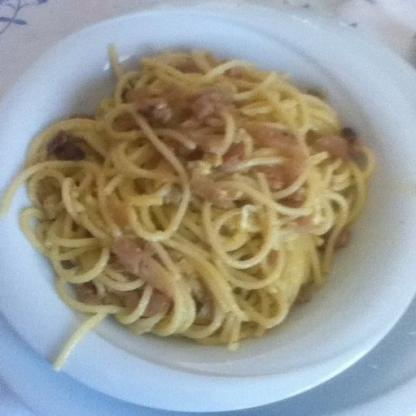Noodles: (0, 41, 376, 372)
